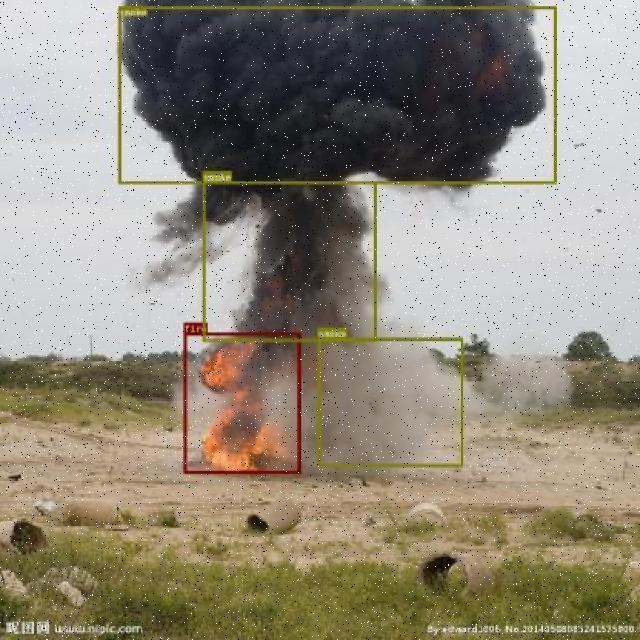Smoke: (111, 37, 550, 152), (234, 213, 344, 309), (352, 363, 426, 428)
